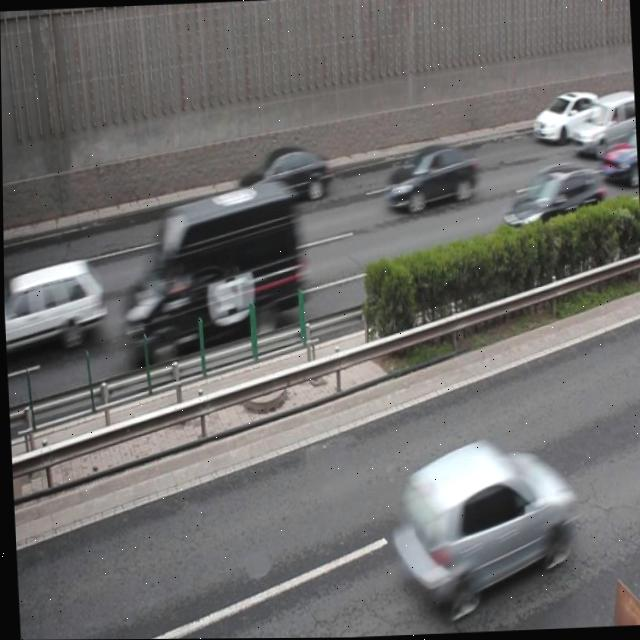car: (384, 433, 573, 614), (3, 256, 106, 357), (497, 163, 604, 245), (382, 141, 477, 211), (237, 144, 330, 208), (569, 90, 636, 158), (530, 89, 601, 143), (597, 124, 638, 186)
truck: (116, 180, 301, 363)
